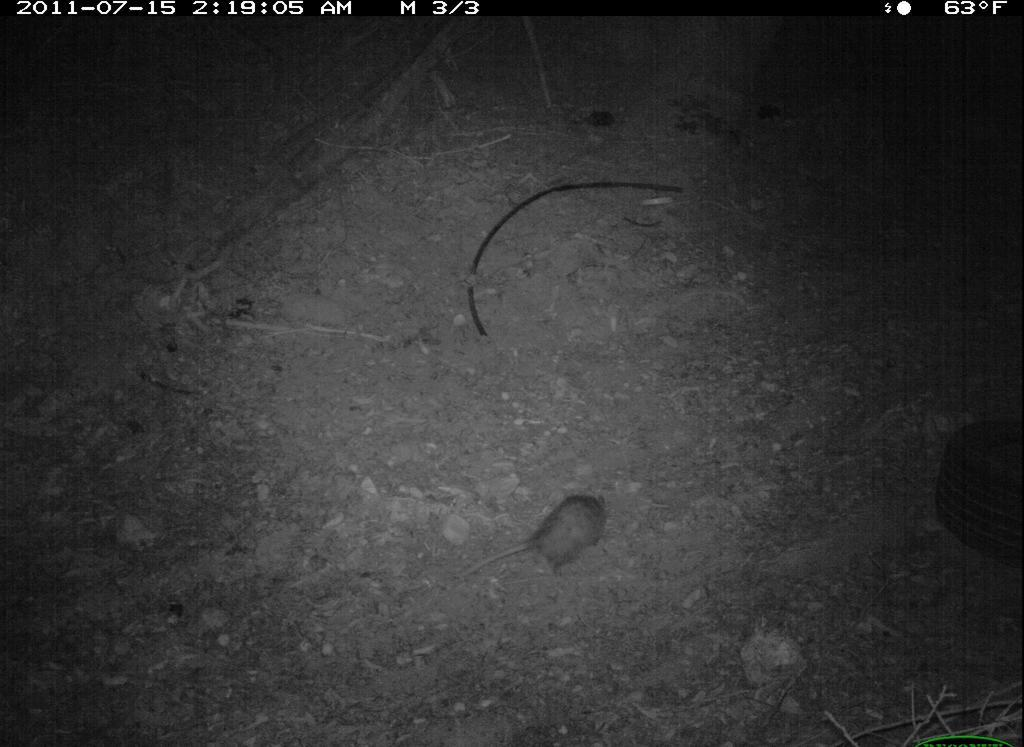opossum: (457, 487, 623, 591)
